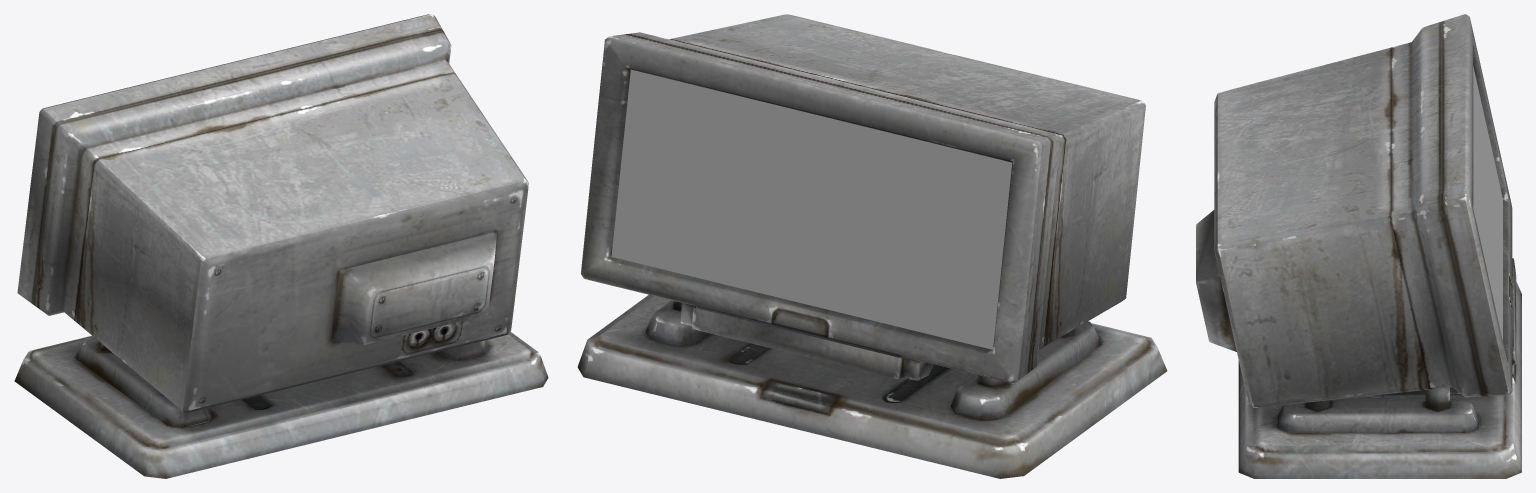
File: ark_testing_terminal.dae
3 renders of one model, left to right at view 1: azimuth 30°, elevation 25°; view 2: azimuth 150°, elevation 25°; view 3: azimuth 270°, elevation 25°, orthographic. The views are drawn at different scales.
Parts seen in each view (by area): view 1: ark_testing_equipment_01; view 2: ark_testing_equipment_01, screen; view 3: ark_testing_equipment_01, screen.
Part boxes in pixels (bbox=[...]): ark_testing_equipment_01: bbox=[14, 14, 548, 478]; ark_testing_equipment_01: bbox=[577, 14, 1167, 478]; screen: bbox=[611, 69, 1012, 349]; ark_testing_equipment_01: bbox=[1196, 14, 1521, 478]; screen: bbox=[1473, 67, 1502, 340].
Bounding box in the file's own units: 0.6114 × 0.4131 × 0.44.
